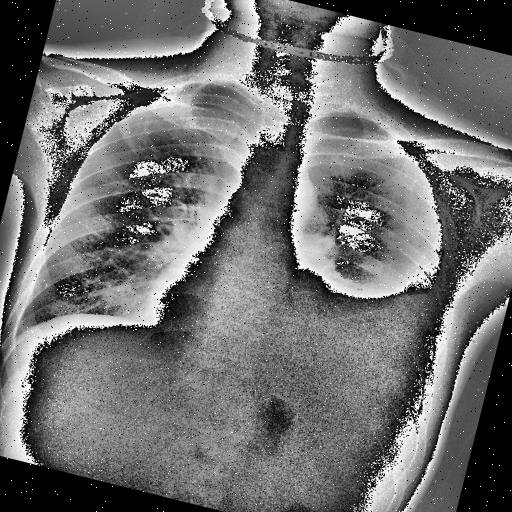10- Pleural effusion: (258, 231, 464, 422), (260, 256, 440, 414), (266, 249, 444, 395)
11- Pleural thickening: (109, 110, 146, 154)
13- Pulmonary fibrosis: (110, 116, 146, 156)
7- Lung Opacity: (109, 110, 146, 154)
